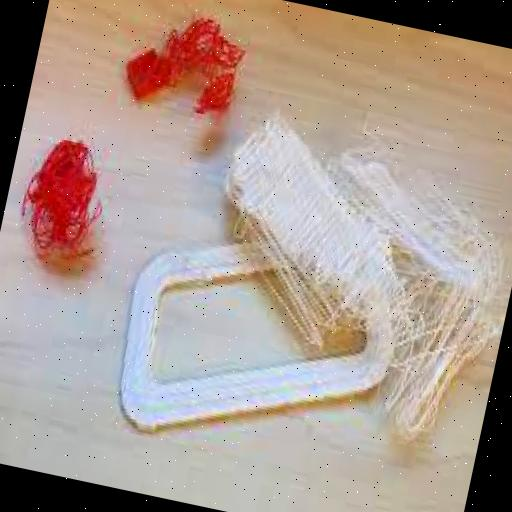spaghetti: (198, 113, 512, 413), (132, 2, 250, 138), (17, 120, 108, 284)
